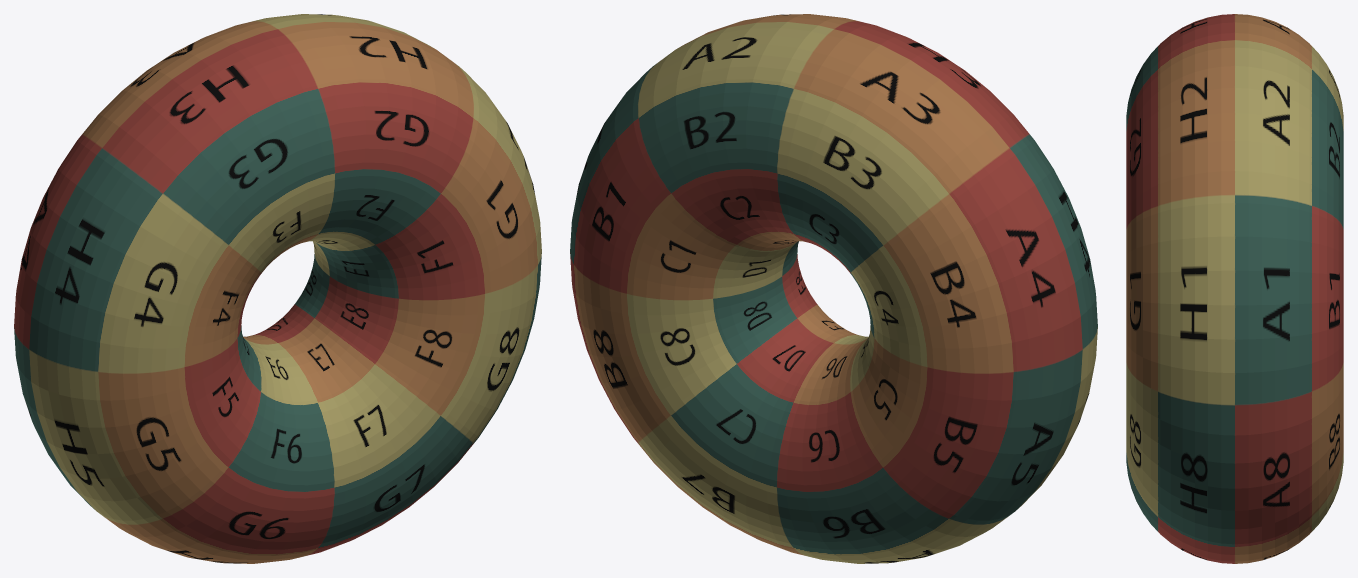
File: texture_torus_R3_r22.glb
3 views of the same model, side by side, from view 1: azimuth 30°, elevation 25°; view 2: azimuth 150°, elevation 25°; view 3: azimuth 270°, elevation 25° (orthographic). The views are drawn at different scales.
Visible parts, largest first — view 1: world; view 2: world; view 3: world.
Part boxes in pixels (x1=…): world: x1=14, y1=14, x2=541, y2=563; world: x1=570, y1=14, x2=1097, y2=563; world: x1=1126, y1=14, x2=1343, y2=563.
Size of the model in its own units: 19.87 by 19.83 by 7.85.
1 material, 1 textured.
